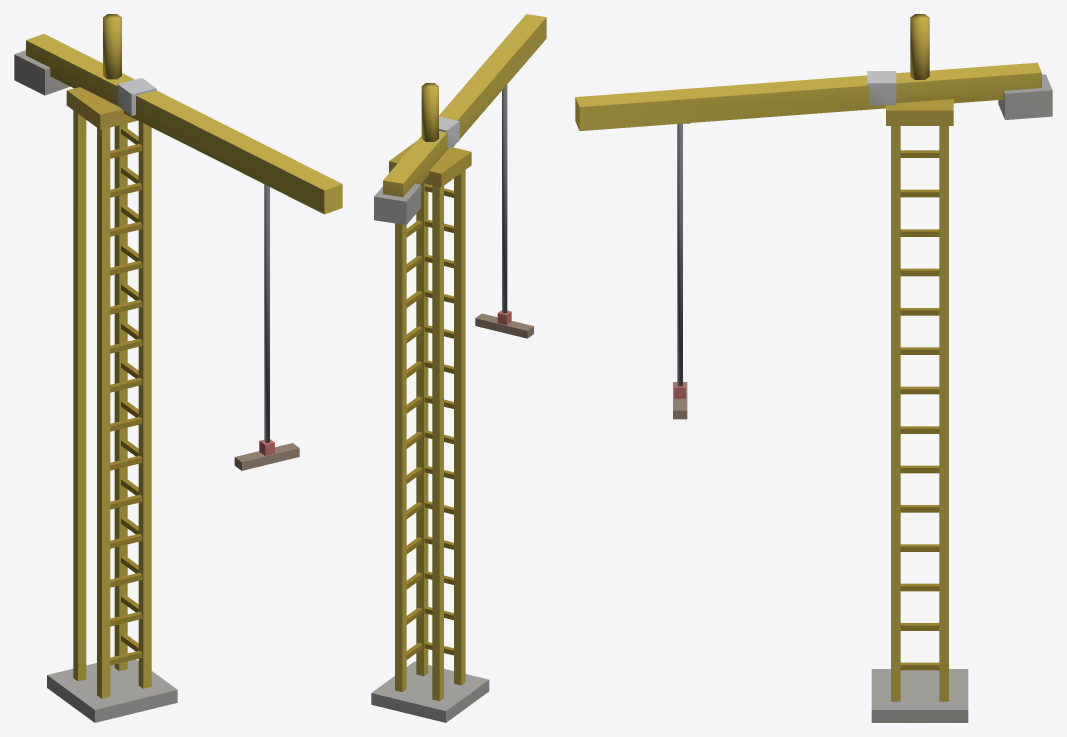
File: crane-1-0.glb
3 renders of one model, left to right at view 1: azimuth 30°, elevation 25°; view 2: azimuth 150°, elevation 25°; view 3: azimuth 270°, elevation 25°, orthographic. The views are drawn at different scales.
Parts seen in each view (by area): view 1: crane-1-0; view 2: crane-1-0; view 3: crane-1-0.
Part boxes in pixels (x1,y1,x2,y2): crane-1-0: (14, 14, 342, 722); crane-1-0: (371, 14, 546, 722); crane-1-0: (575, 14, 1052, 722).
Size of the model in its own units: 0.2575 by 1.57 by 0.9882.
